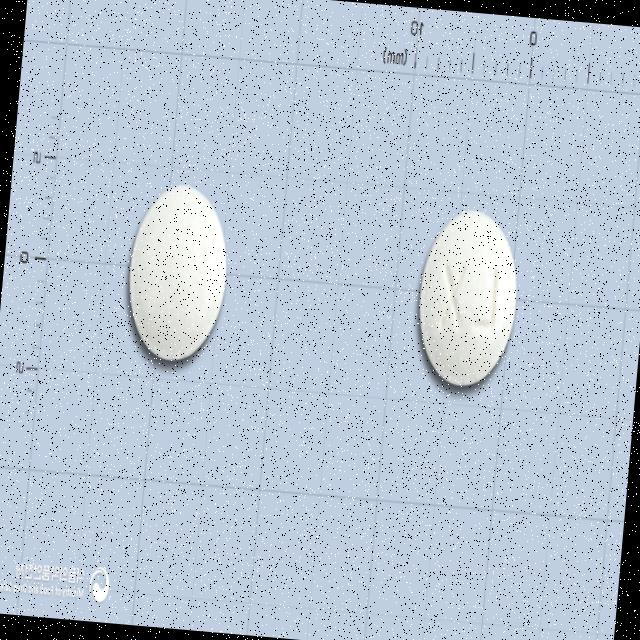Levoxacin -250mg: (120, 178, 233, 366), (411, 205, 523, 391)
